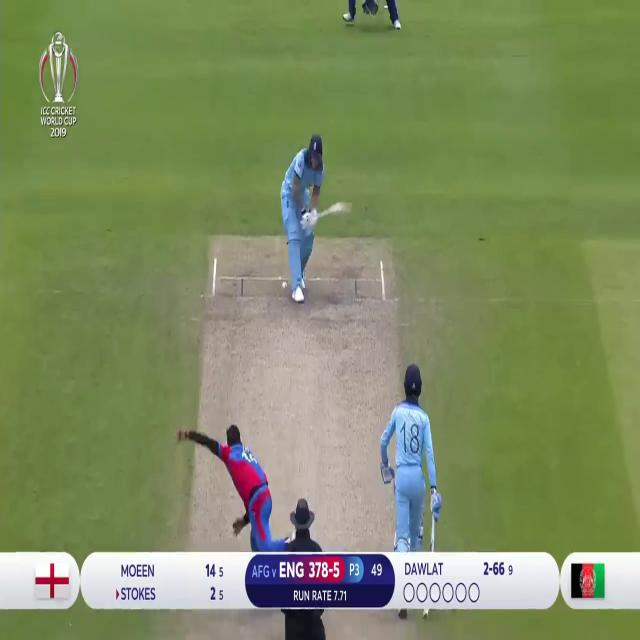ball: (281, 278, 289, 292)
